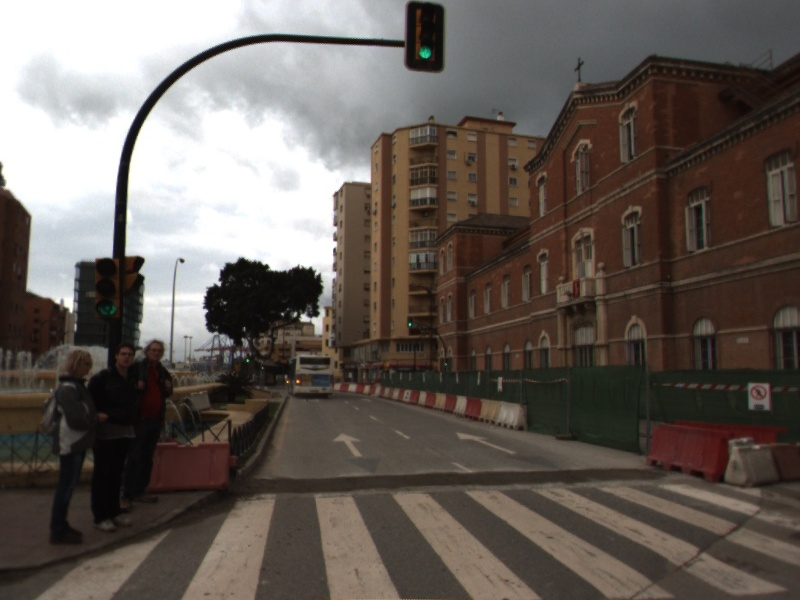STRAIGHT: (454, 429, 518, 456), (331, 430, 365, 458)
